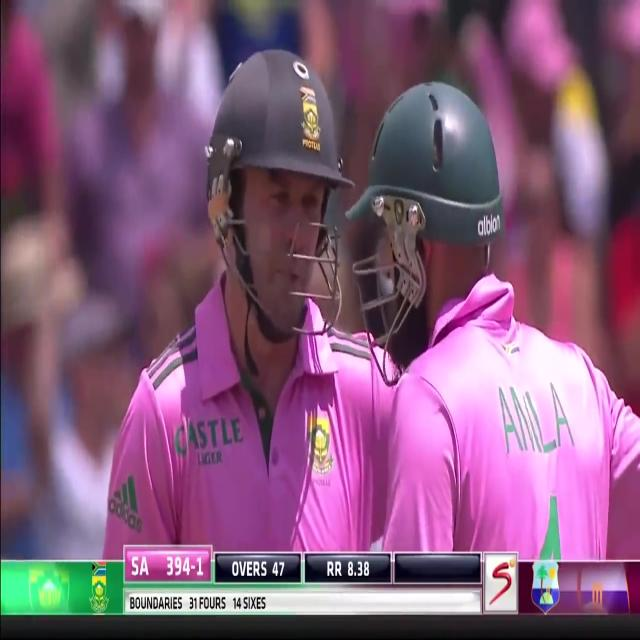Ball: (360, 84, 640, 561), (99, 38, 344, 554)
